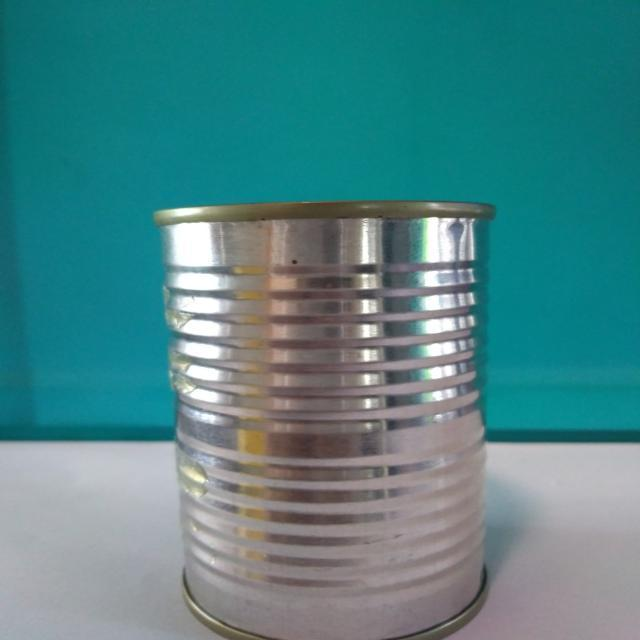metal-can: (147, 197, 499, 640)
